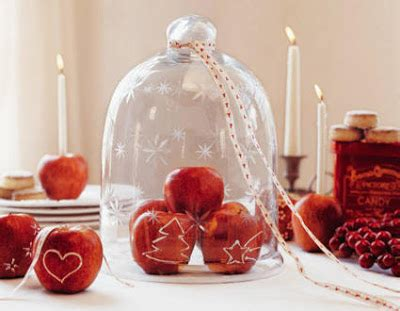apple: (33, 222, 104, 298), (197, 200, 264, 274), (129, 208, 200, 277), (162, 165, 228, 220), (292, 192, 347, 254), (39, 151, 91, 202)
